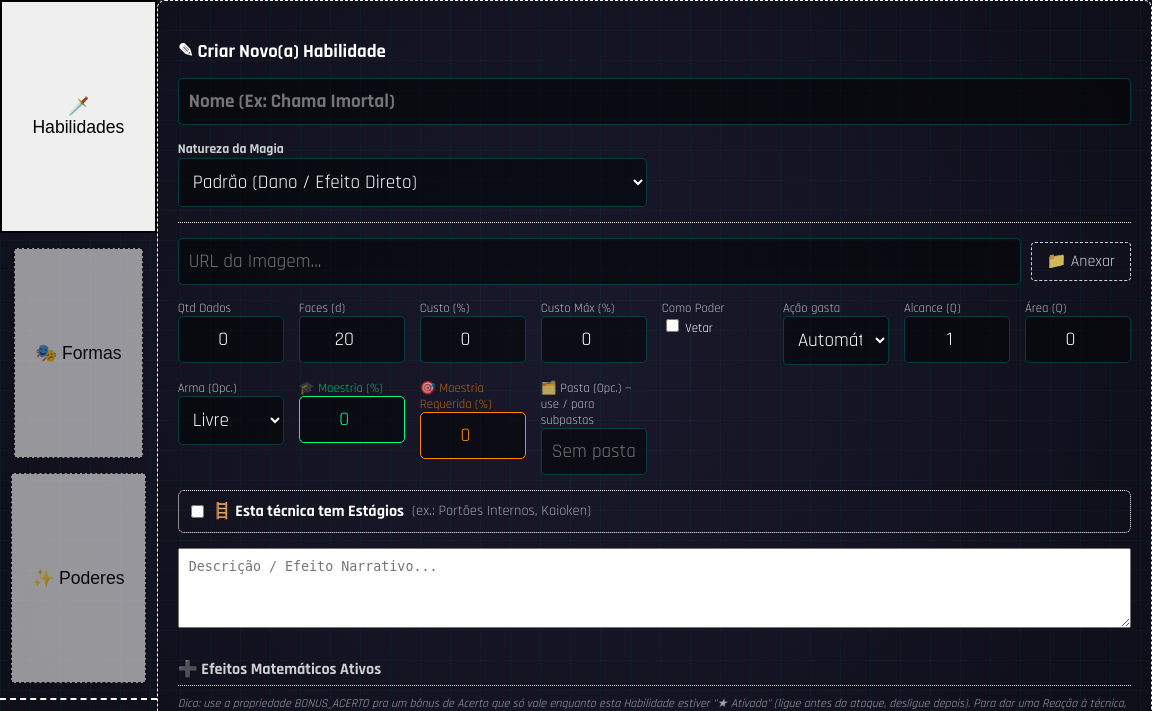
Scenario: PoderesFormEditor (UI) — bloco de Estágios › a prévia reflete os números digitados (crescimento 50 => 3º estágio x2)
Click the checkbox labelled "🪜 Esta técnica tem Estágios (ex.: Portões Internos, Kaioken)" at (197, 511), box [191,505,204,518]
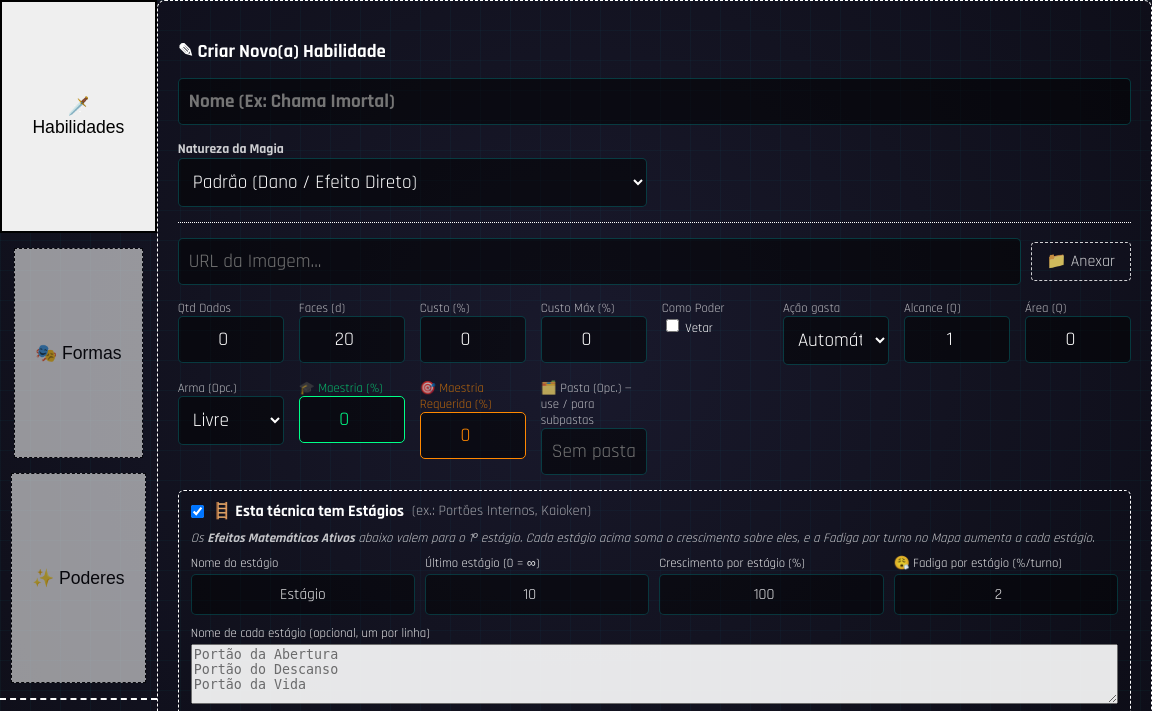
Replace the text in the number field labelled "Crescimento por estágio (%)" with "50" at (772, 594), box [659,574,884,615]
(page scrolled)
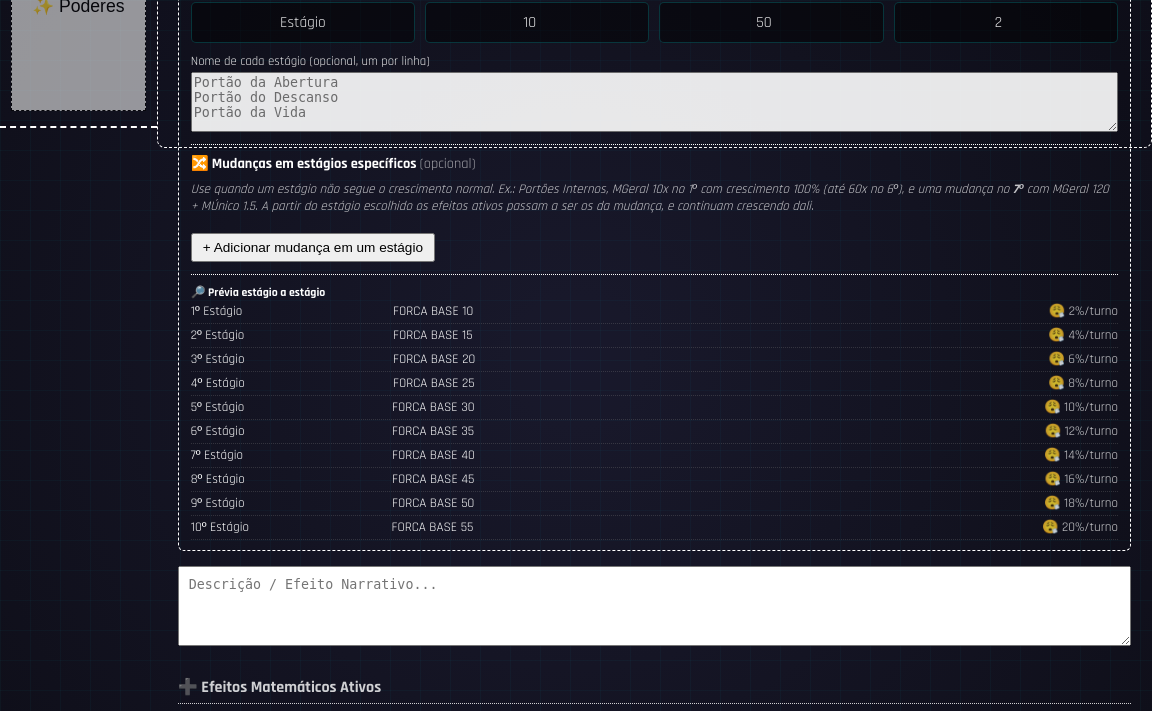
Now the text "3º Estágio" shows "FORCA BASE 20", box [393,351,475,368]
Now the text "3º Estágio" shows "6%/turno", box [191,348,1118,372]
